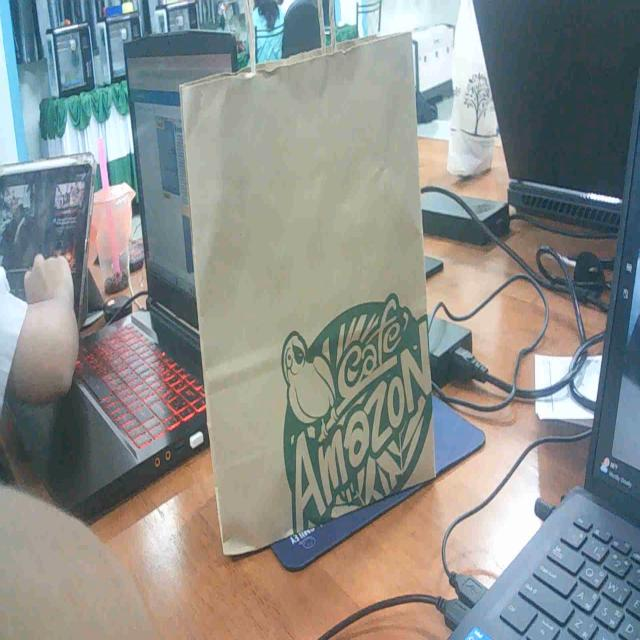bag: (185, 30, 450, 572)
